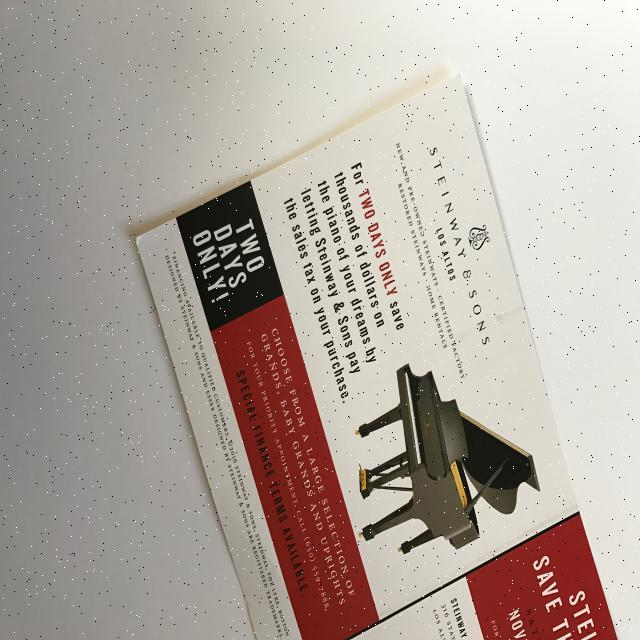paper: (135, 72, 594, 638)
